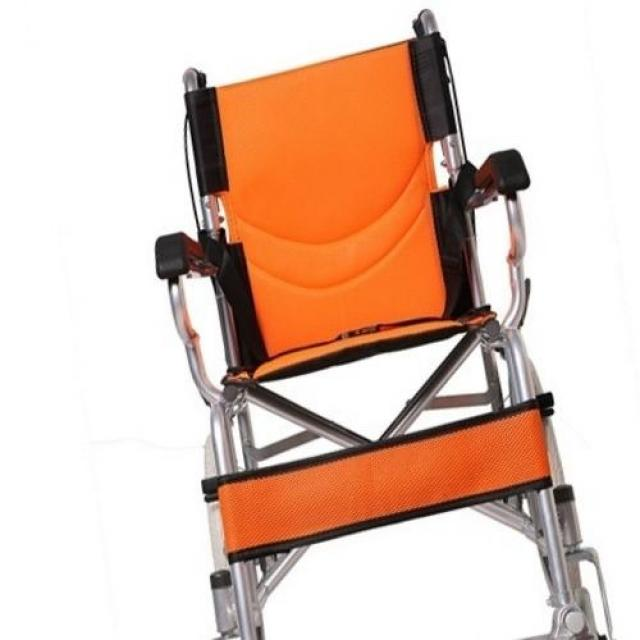wheelchair: (130, 0, 621, 637)
